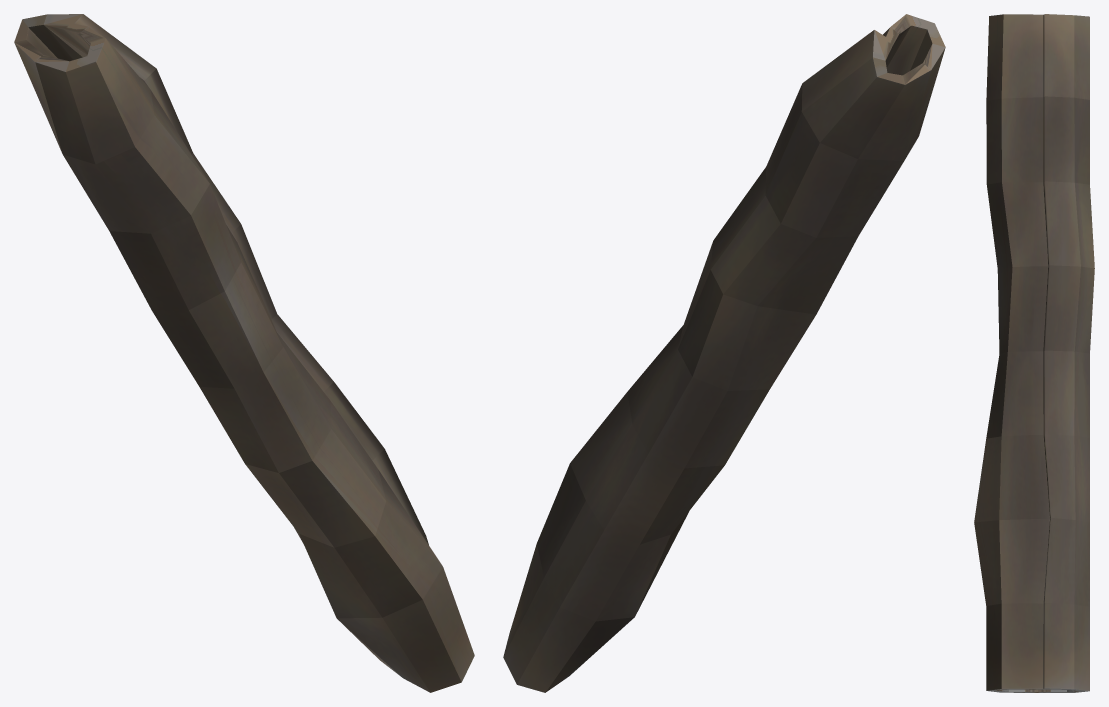
Rendered from lead.fbx.
3 renders of one model, left to right at view 1: azimuth 30°, elevation 25°; view 2: azimuth 150°, elevation 25°; view 3: azimuth 270°, elevation 25°, orthographic. The views are drawn at different scales.
Parts seen in each view (by area): view 1: Lead; view 2: Lead; view 3: Lead.
Part boxes in pixels (x1,y1,x2,y2): Lead: [14, 14, 474, 692]; Lead: [503, 14, 945, 692]; Lead: [974, 14, 1094, 692].
Size of the model in its own units: 49.66 by 82.55 by 16.08.
1 material, 1 textured.
